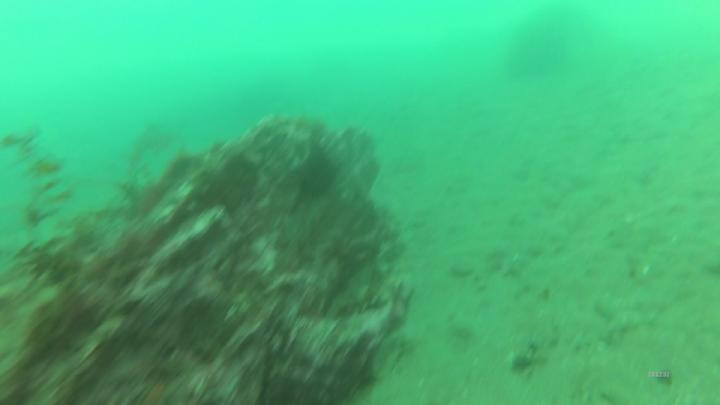echinus: (298, 147, 342, 200), (220, 154, 261, 209)
waterweeds: (2, 128, 109, 298)
